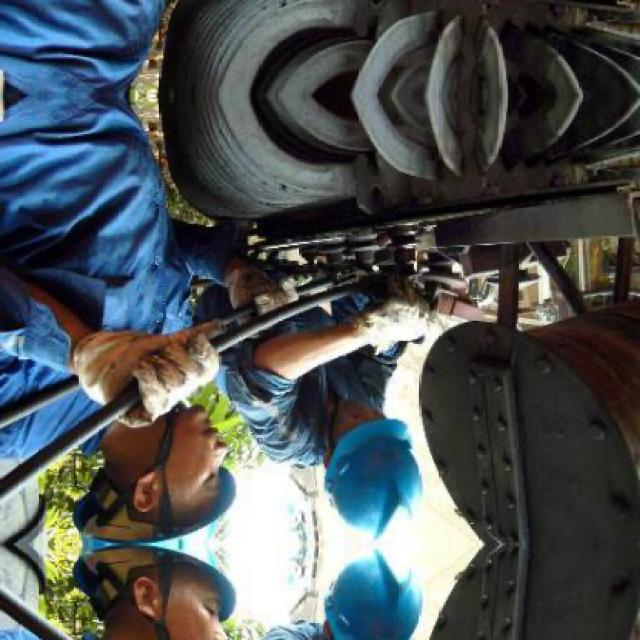con casco: (0, 340, 234, 541), (264, 366, 439, 529)
